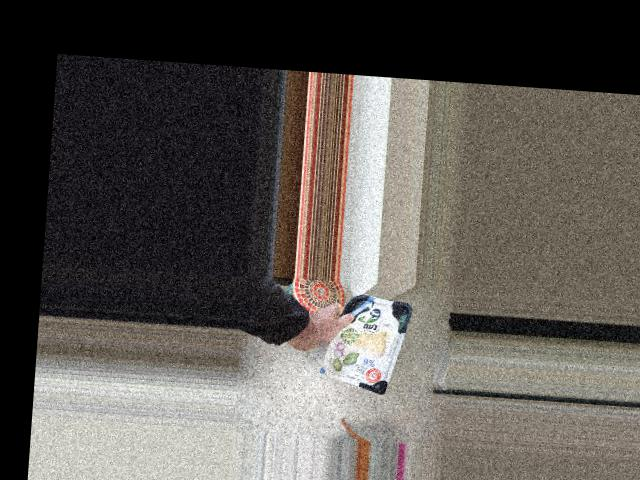cheese: (319, 291, 413, 391)
